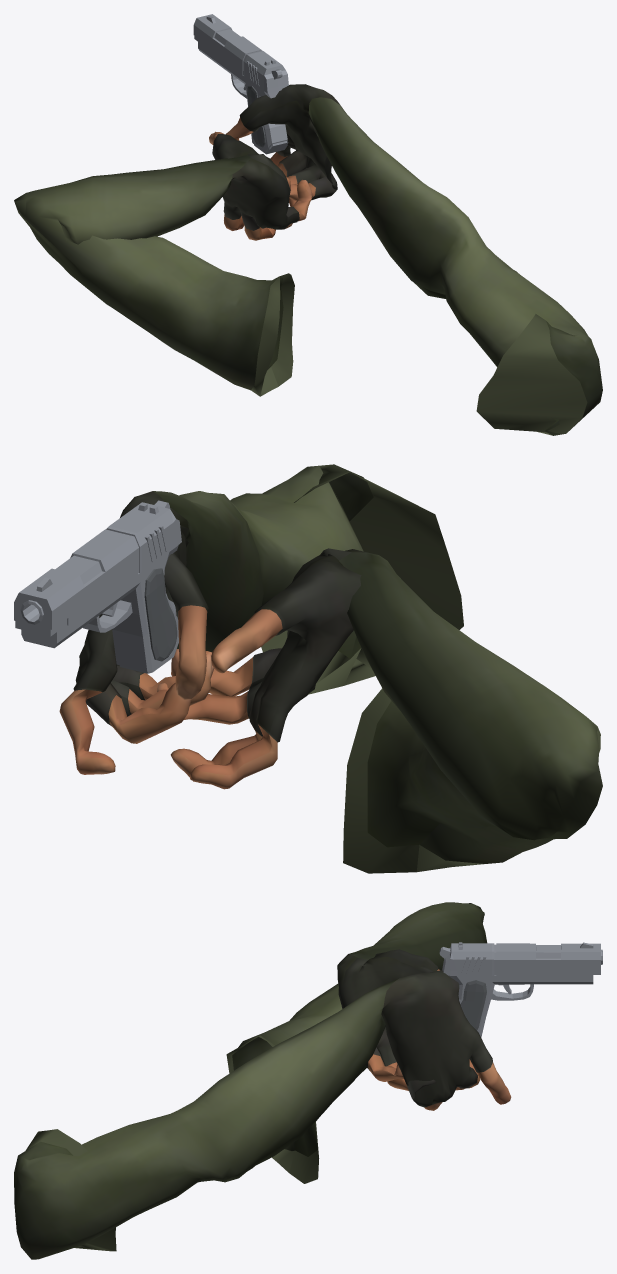
File: pistol.glb
3 renders of one model, top to bottom at view 1: azimuth 30°, elevation 25°; view 2: azimuth 150°, elevation 25°; view 3: azimuth 270°, elevation 25°, orthographic. The views are drawn at different scales.
Parts seen in each view (by area): view 1: Arms_Pistol, VM_Pistol; view 2: Arms_Pistol, VM_Pistol; view 3: Arms_Pistol, VM_Pistol.
Boxes of the visible parts, x1,y1,x2,y2 form: Arms_Pistol: (14,84,602,435); VM_Pistol: (193,14,288,154); Arms_Pistol: (59,464,602,873); VM_Pistol: (14,500,181,673); Arms_Pistol: (14,902,511,1259); VM_Pistol: (439,942,602,1037).
Size of the model in its own units: 0.5559 by 0.3438 by 0.685.
Materials: 4 (2 with a texture image).
